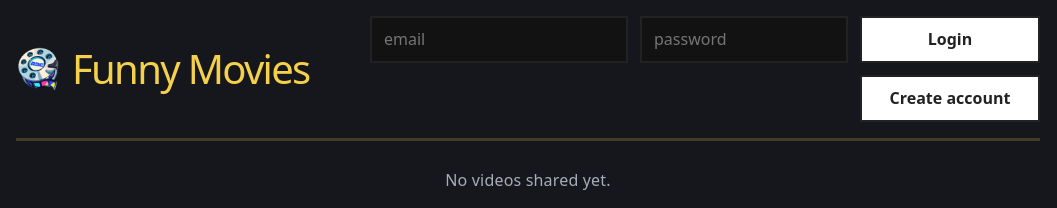
Test case: App › shows the password confirmation field after switching to register mode
expect the text "No videos shared yet." is shown: met, box [445,169,611,191]
What coordinates should you click on to do the following:
click the button "Create account"
I would click on:
 (950, 99)
Its box is [860,75,1040,122].
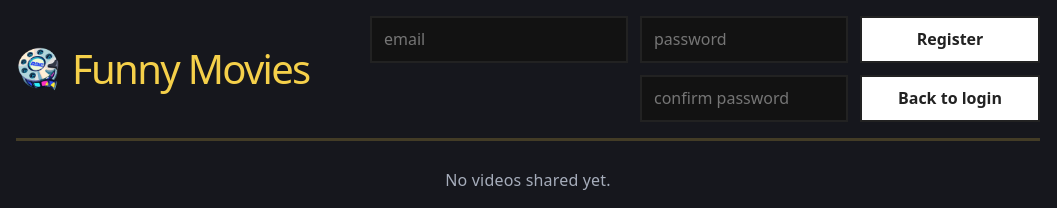
expect the password field with placeholder "confirm password" is shown: met, box [640,75,848,122]
